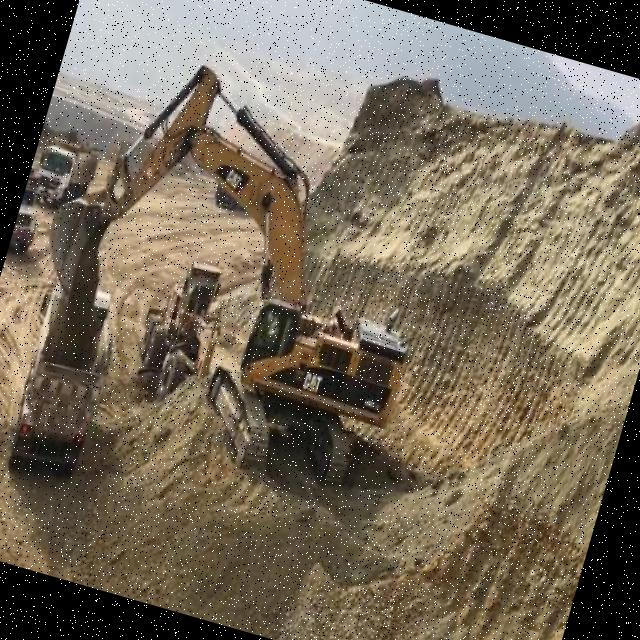Dump Truck: (0, 278, 124, 484), (28, 132, 102, 218), (9, 168, 51, 250)
Excavator: (0, 27, 475, 509)
